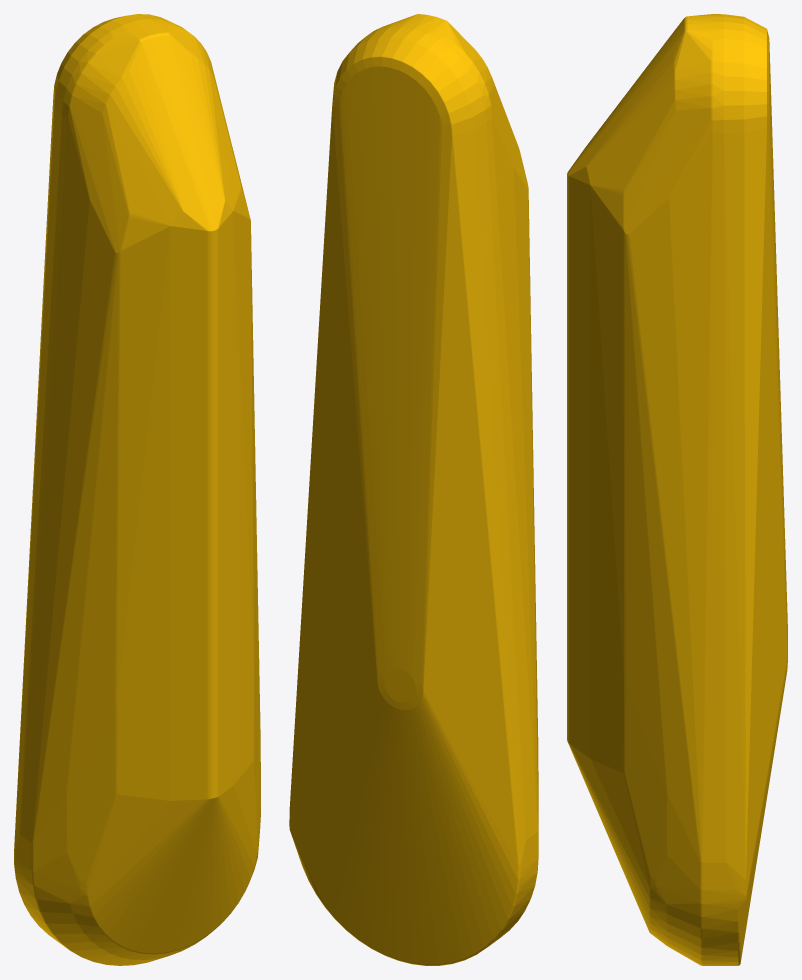
3 views of the same model, side by side, from view 1: azimuth 30°, elevation 25°; view 2: azimuth 150°, elevation 25°; view 3: azimuth 270°, elevation 25° (orthographic).
Visible parts, largest first — view 1: Link 2.001; view 2: Link 2.001; view 3: Link 2.001.
Boxes of the visible parts, <box> form: Link 2.001: <box>14,14,260,965</box>; Link 2.001: <box>289,14,538,965</box>; Link 2.001: <box>567,14,787,965</box>.
Bounding box in the file's own units: 0.256 × 0.2147 × 1.
